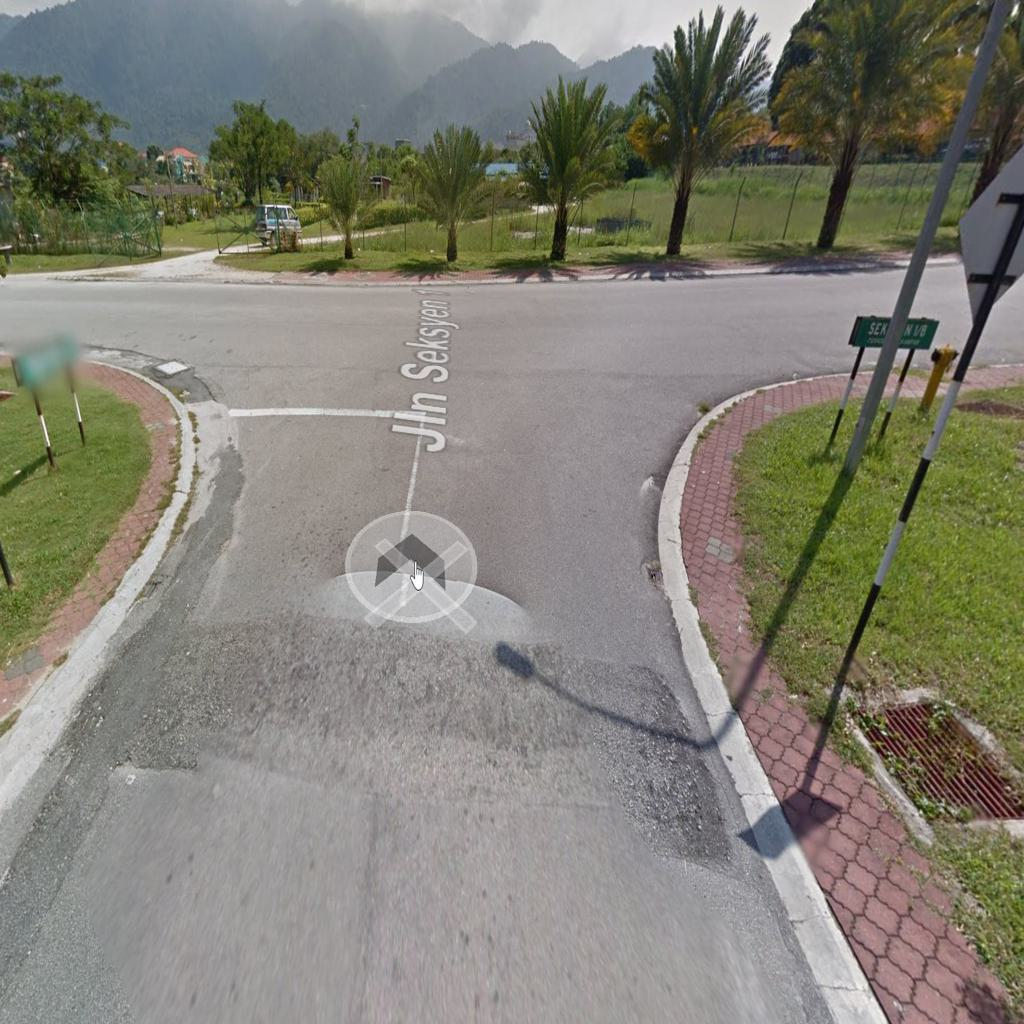Junction: (618, 264, 1013, 484), (15, 258, 280, 451)
